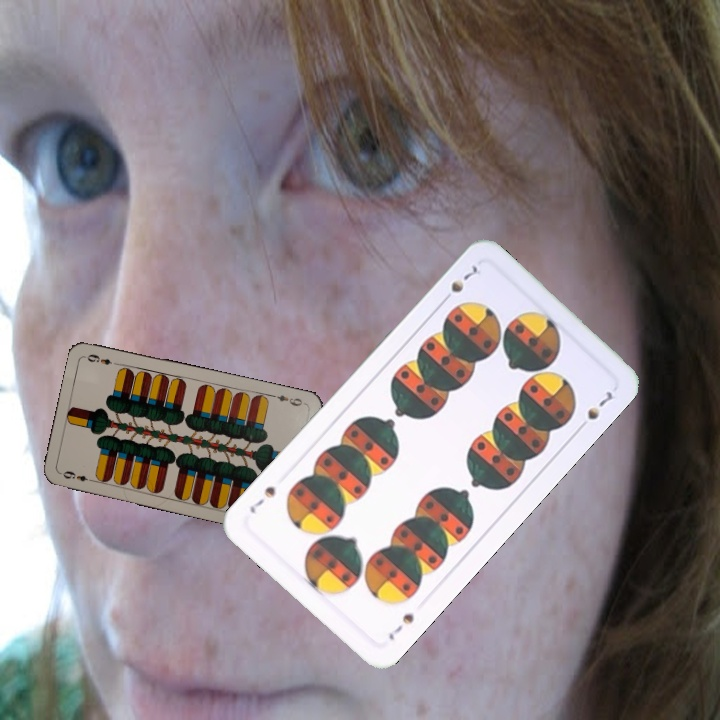E9: (267, 391, 307, 409), (57, 467, 97, 485)
S7: (437, 262, 480, 306), (384, 609, 417, 643)
